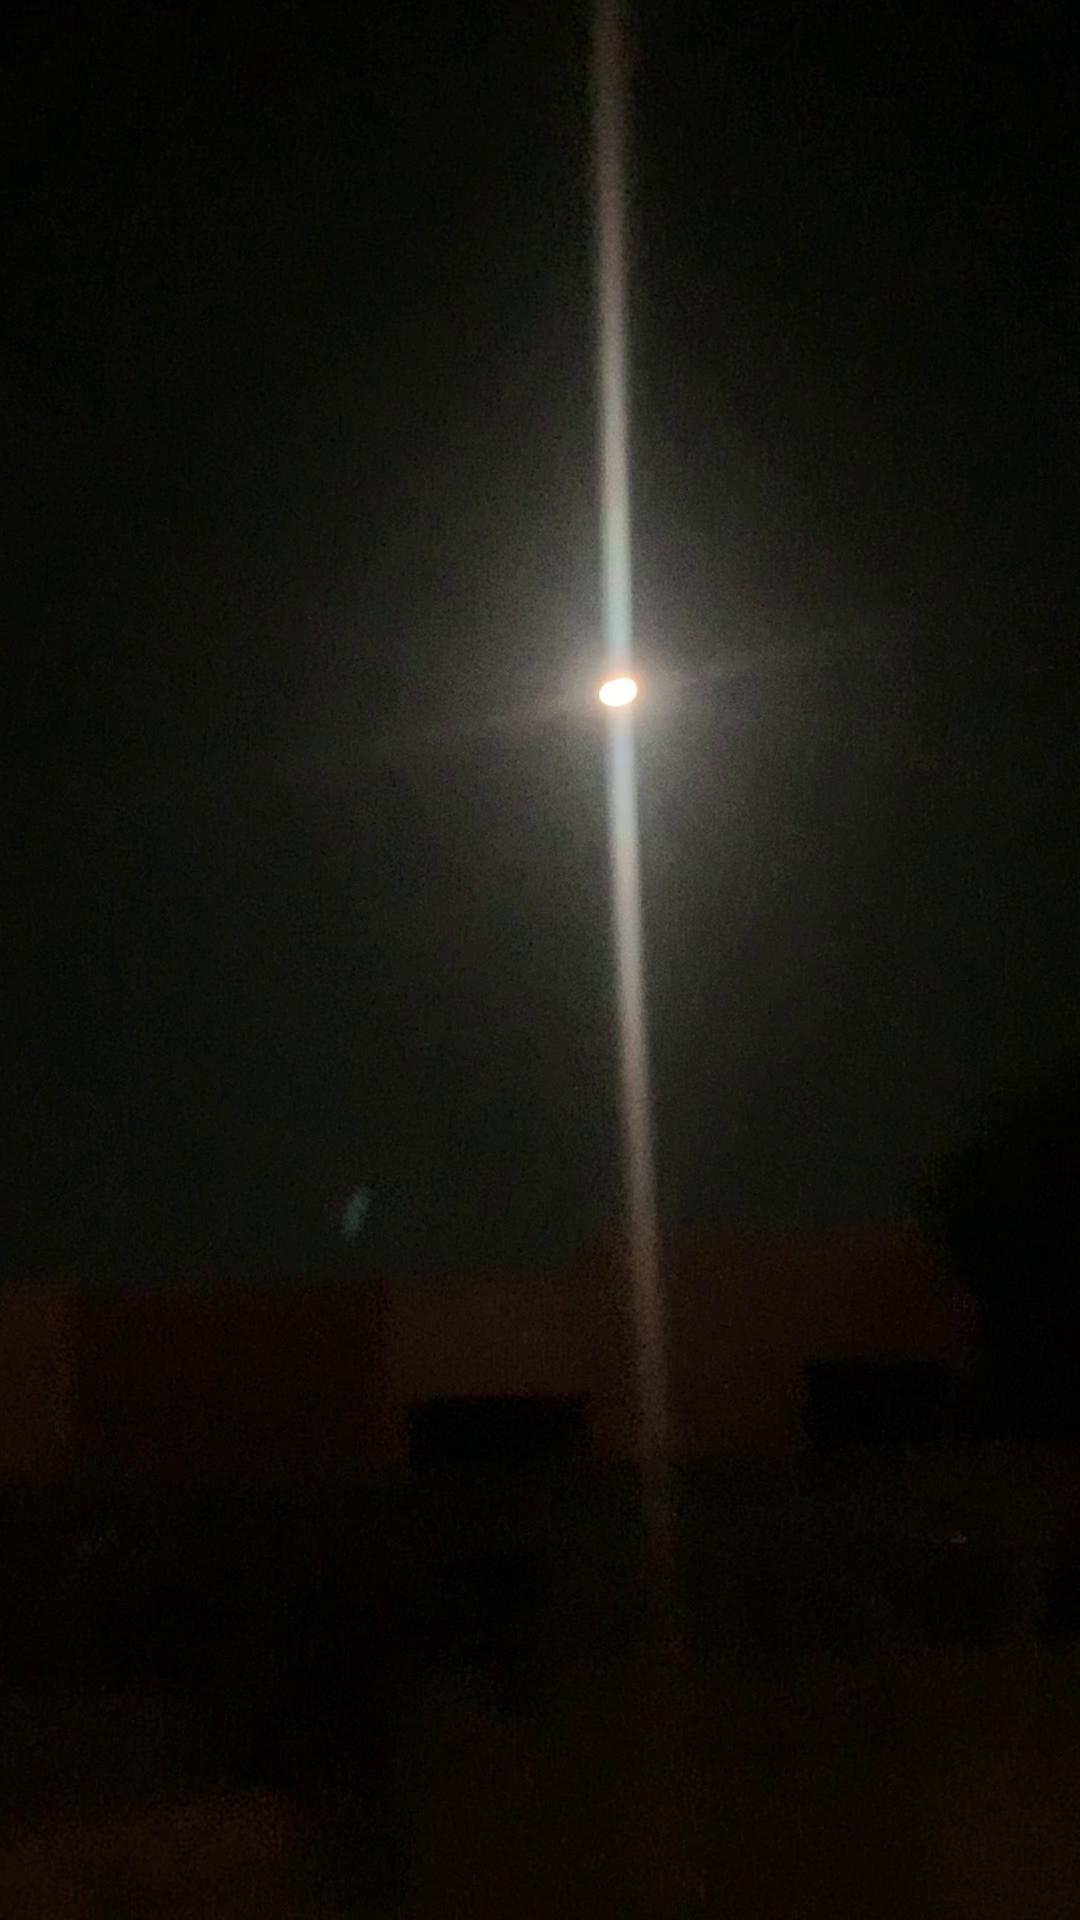moon: (571, 646, 676, 732)
